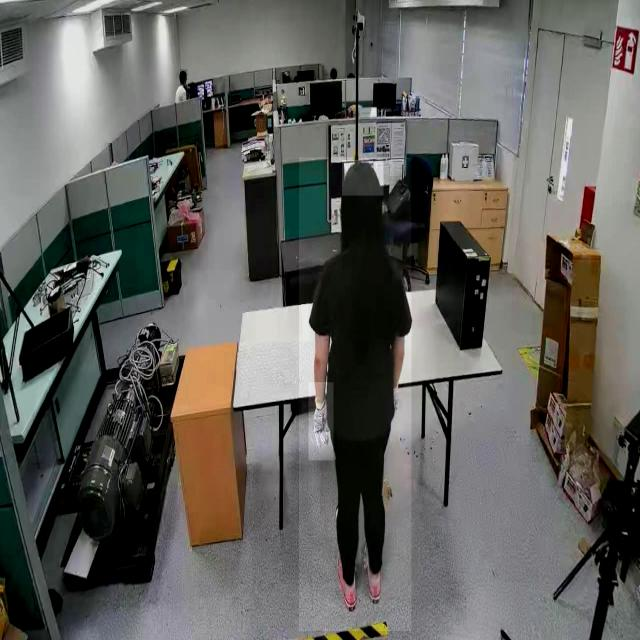hand_glove: (308, 382, 334, 462)
head_nohelmet: (342, 160, 384, 196), (180, 70, 188, 76)
person: (298, 157, 412, 632)
shoes: (335, 551, 361, 613), (363, 540, 384, 600)
